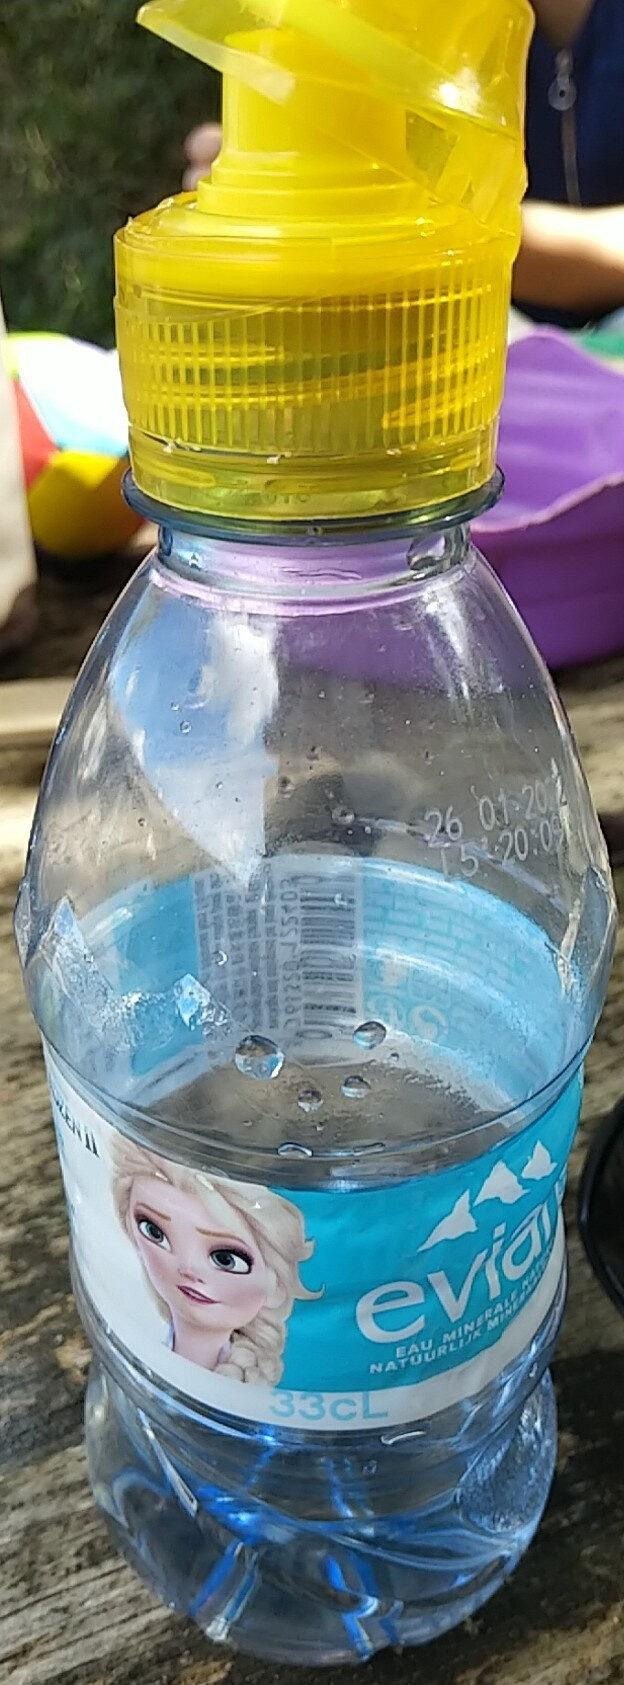bottle: (4, 0, 624, 1685)
